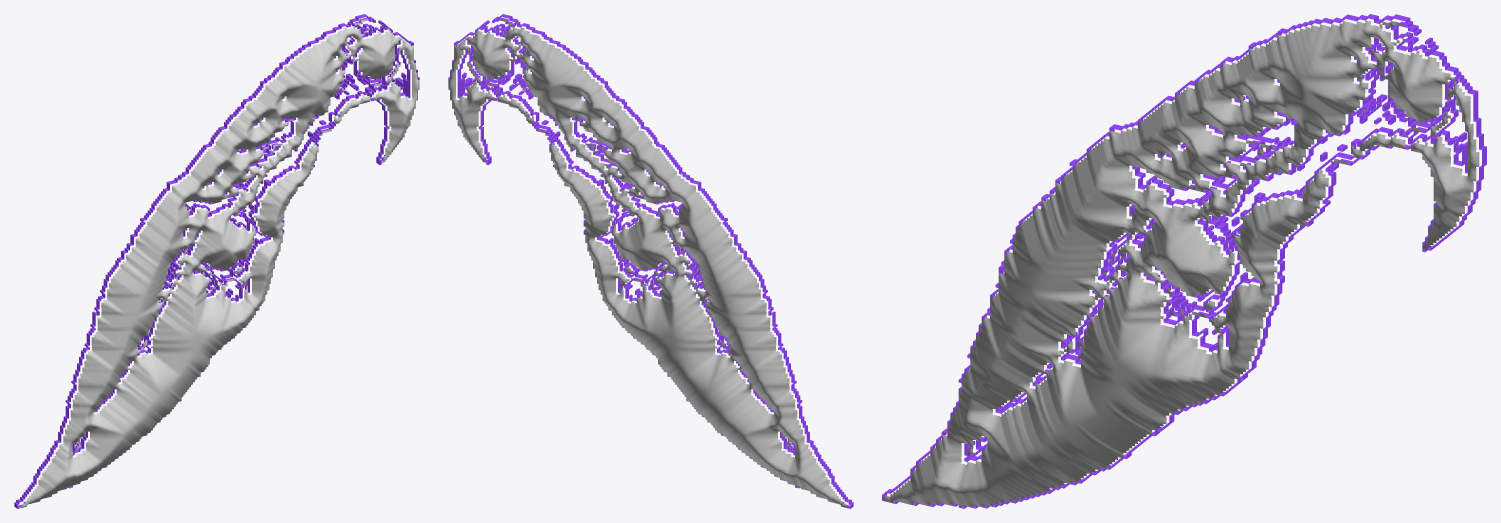
Rendered from val-singularity-knife.glb.
The picture shows the model from 3 angles, left to right: view 1: azimuth 30°, elevation 25°; view 2: azimuth 150°, elevation 25°; view 3: azimuth 330°, elevation 25°; orthographic projection. The views are drawn at different scales.
Parts seen in each view (by area): view 1: projected-skin, silhouette-edge; view 2: projected-skin, silhouette-edge; view 3: projected-skin, silhouette-edge.
Boxes of the visible parts, <box> form: projected-skin: <box>19,18,419,508</box>; silhouette-edge: <box>14,14,419,508</box>; projected-skin: <box>448,18,848,508</box>; silhouette-edge: <box>448,14,853,508</box>; projected-skin: <box>882,20,1479,507</box>; silhouette-edge: <box>882,14,1486,508</box>.
Size of the model in its own units: 0.8275 by 0.8 by 0.08.
